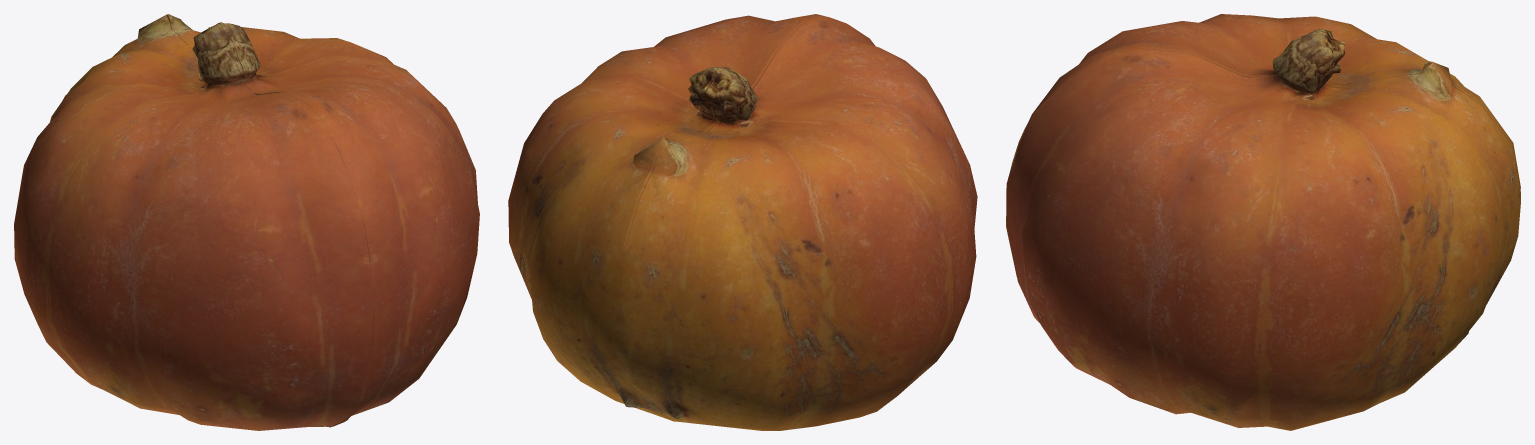
The model's file is Pumpkin.gltf.
3 views of the same model, side by side, from view 1: azimuth 30°, elevation 25°; view 2: azimuth 150°, elevation 25°; view 3: azimuth 270°, elevation 25° (orthographic). The views are drawn at different scales.
Visible parts, largest first — view 1: Pumpkin_Left, Pumpkin_Right; view 2: Pumpkin_Left, Pumpkin_Right; view 3: Pumpkin_Right, Pumpkin_Left.
Boxes of the visible parts, x1,y1,x2,y2 form: Pumpkin_Left: [14, 14, 375, 430]; Pumpkin_Right: [166, 14, 479, 427]; Pumpkin_Left: [618, 15, 977, 430]; Pumpkin_Right: [508, 14, 822, 421]; Pumpkin_Right: [1006, 30, 1520, 430]; Pumpkin_Left: [1006, 14, 1520, 275].
Size of the model in its own units: 1.01 by 0.7961 by 1.06.
Materials: 1 (1 with a texture image).
